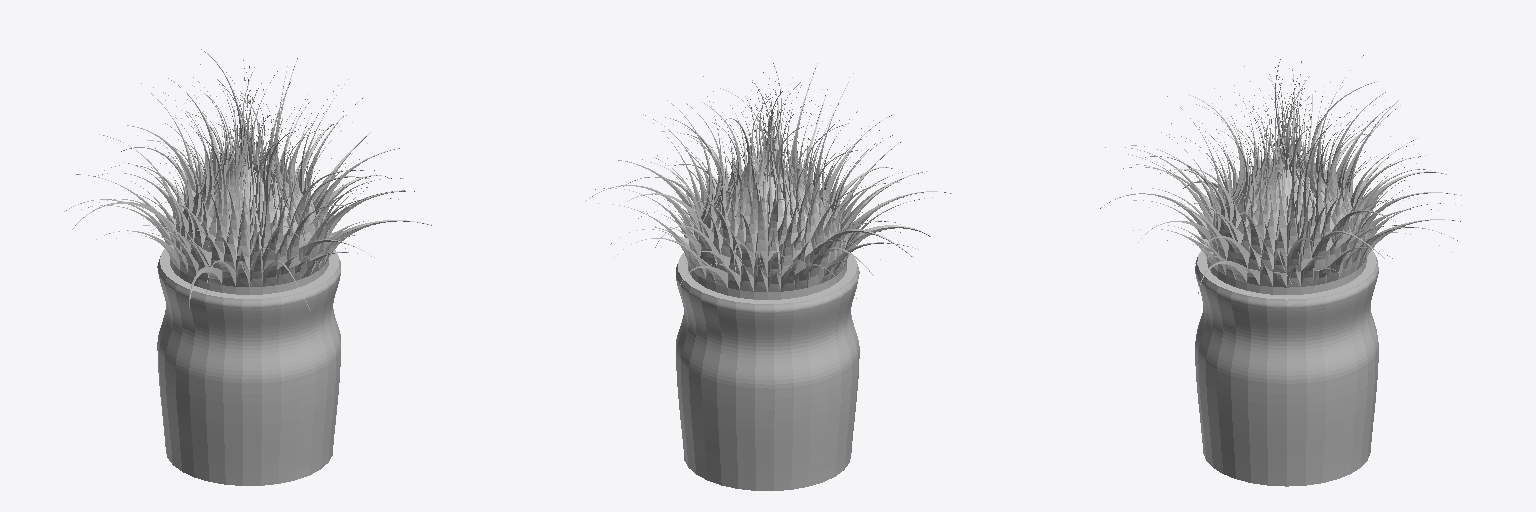
Rendered from plant.obj.
3 views of the same model, side by side, from view 1: azimuth 30°, elevation 25°; view 2: azimuth 150°, elevation 25°; view 3: azimuth 270°, elevation 25° (orthographic).
Parts seen in each view (by area): view 1: plant pot, plant plant1, plant pot Cap_1; view 2: plant pot, plant plant1, plant pot Cap_1; view 3: plant pot, plant plant1, plant pot Cap_1.
Boxes of the visible parts, x1=… form: plant pot: x1=157, y1=256, x2=340, y2=485; plant plant1: x1=64, y1=49, x2=431, y2=310; plant pot Cap_1: x1=160, y1=249, x2=338, y2=298; plant pot: x1=676, y1=261, x2=859, y2=490; plant plant1: x1=585, y1=63, x2=951, y2=299; plant pot Cap_1: x1=678, y1=253, x2=857, y2=303; plant pot: x1=1195, y1=257, x2=1378, y2=486; plant plant1: x1=1100, y1=55, x2=1461, y2=294; plant pot Cap_1: x1=1197, y1=250, x2=1376, y2=299.
Bounding box in the file's own units: 273 × 311 × 269.